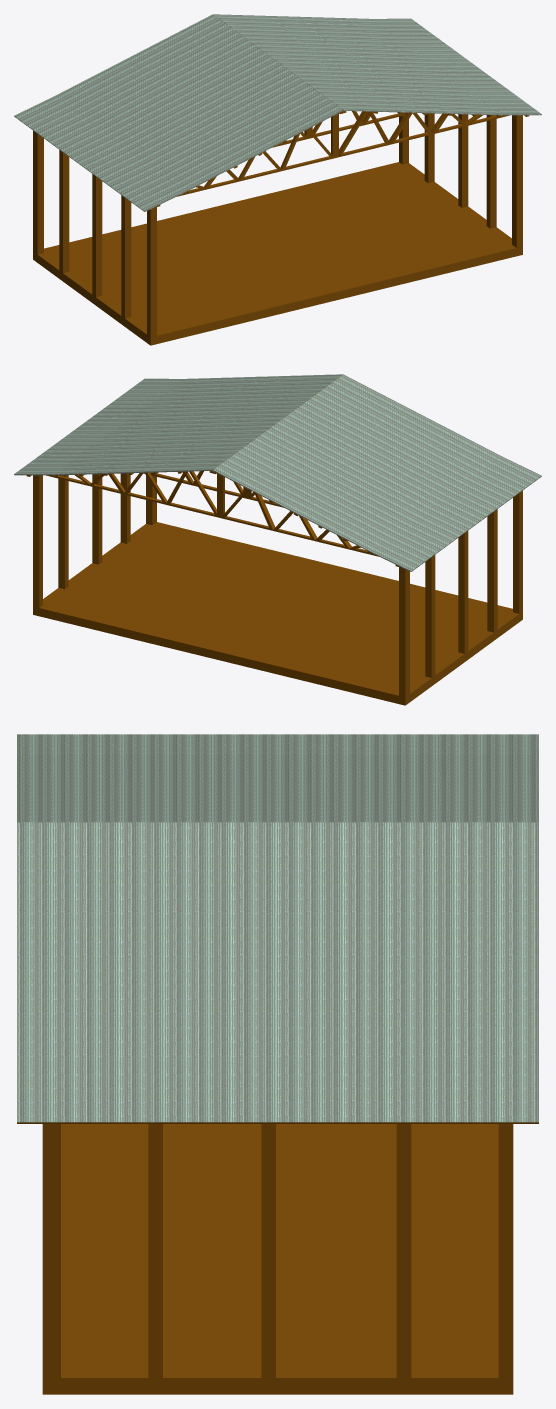
The model's file is double_canopy_carport.glb.
3 renders of one model, top to bottom at view 1: azimuth 30°, elevation 25°; view 2: azimuth 150°, elevation 25°; view 3: azimuth 270°, elevation 25°, orthographic. The views are drawn at different scales.
Parts seen in each view (by area): view 1: Mesh9_Color_C08_0, Mesh9_Translucent_Glass_Corrugated_0, Mesh1_Color_C08_0, Mesh7_Color_C08_0; view 2: Mesh9_Color_C08_0, Mesh9_Translucent_Glass_Corrugated_0, Mesh4_Color_C08_0, Mesh3_Color_C08_0; view 3: Mesh9_Translucent_Glass_Corrugated_0, Mesh9_Color_C08_0.
Boxes of the visible parts, left/top/right/bottom form: Mesh9_Color_C08_0: left=33, top=17, right=529, bottom=345; Mesh9_Translucent_Glass_Corrugated_0: left=14, top=14, right=541, bottom=211; Mesh1_Color_C08_0: left=177, top=115, right=335, bottom=196; Mesh7_Color_C08_0: left=309, top=111, right=405, bottom=138; Mesh9_Color_C08_0: left=26, top=377, right=522, bottom=705; Mesh9_Translucent_Glass_Corrugated_0: left=14, top=374, right=541, bottom=571; Mesh4_Color_C08_0: left=46, top=471, right=219, bottom=517; Mesh3_Color_C08_0: left=143, top=471, right=246, bottom=498; Mesh9_Translucent_Glass_Corrugated_0: left=17, top=734, right=538, bottom=1122; Mesh9_Color_C08_0: left=17, top=1122, right=538, bottom=1394.
Size of the model in its own units: 12.49 by 5.86 by 7.1.
2 materials, 1 textured.
